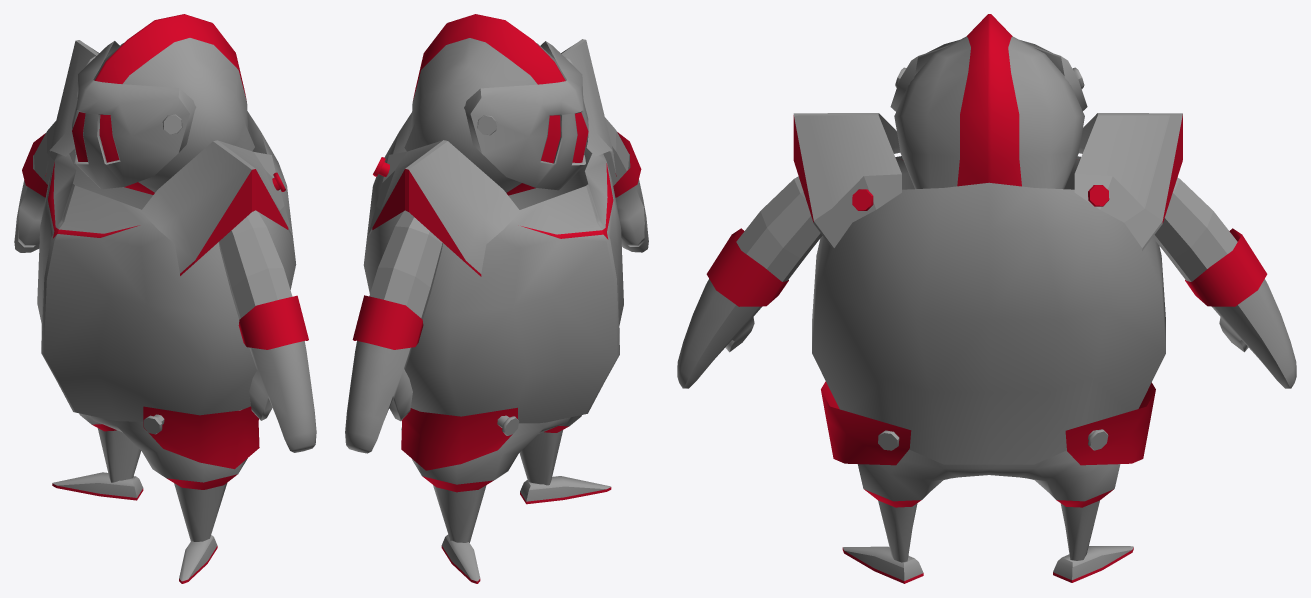
The model's file is minion.FBX.
3 renders of one model, left to right at view 1: azimuth 30°, elevation 25°; view 2: azimuth 150°, elevation 25°; view 3: azimuth 270°, elevation 25°, orthographic. The views are drawn at different scales.
Parts seen in each view (by area): view 1: armure004; view 2: armure004; view 3: armure004.
Boxes of the visible parts, box(x1,y1,x2,y2) form: armure004: box(14, 14, 316, 583); armure004: box(345, 14, 648, 583); armure004: box(677, 14, 1296, 583).
Size of the model in its own units: 15.33 by 33.99 by 34.26.
